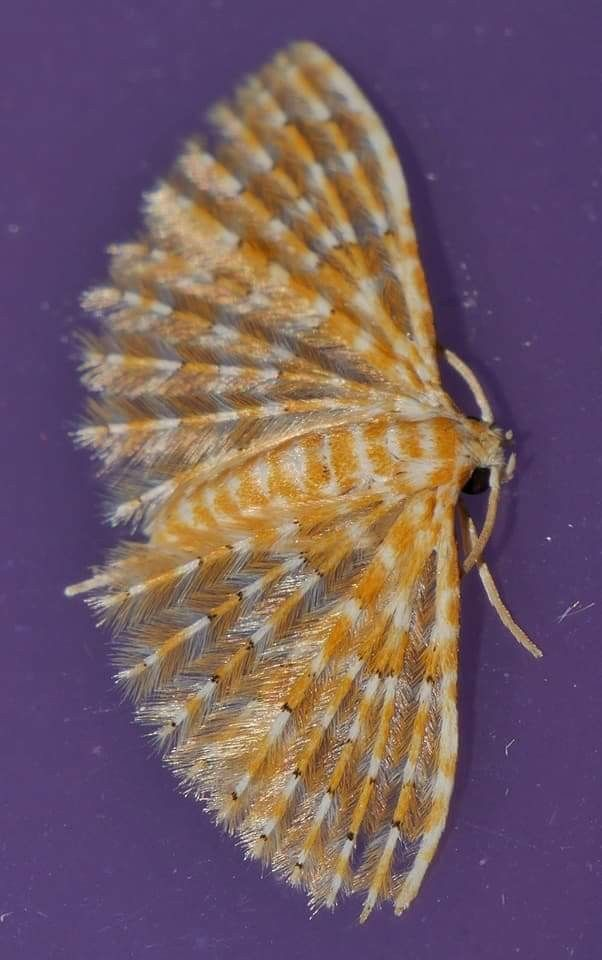Alucitidae: (61, 29, 544, 919)
moth: (63, 31, 546, 921)
